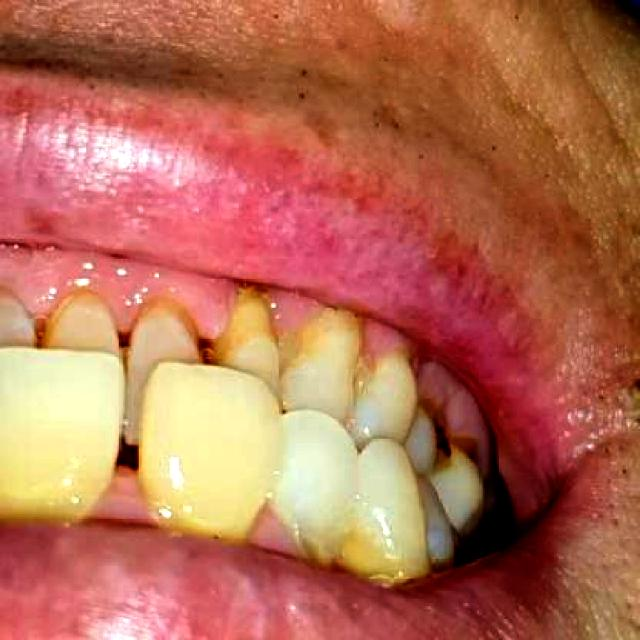Plaque: (181, 271, 498, 475)
